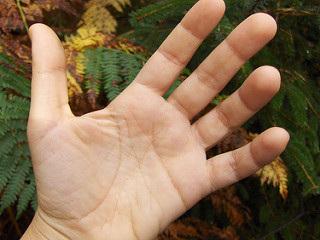palm: (55, 107, 201, 229)
